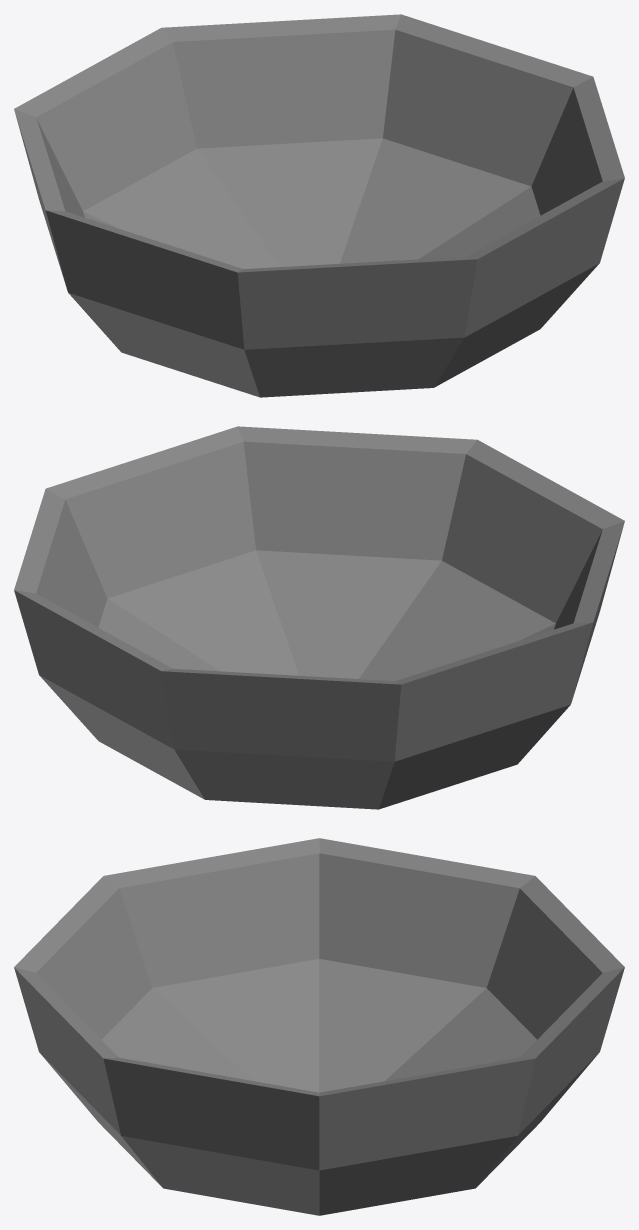
File: Bowl.gltf
3 renders of one model, top to bottom at view 1: azimuth 30°, elevation 25°; view 2: azimuth 150°, elevation 25°; view 3: azimuth 270°, elevation 25°, orthographic. The views are drawn at different scales.
Visible parts, largest first — view 1: Bowl2; view 2: Bowl2; view 3: Bowl2.
Part boxes in pixels (x1=…): Bowl2: x1=14, y1=14, x2=624, y2=397; Bowl2: x1=14, y1=426, x2=624, y2=809; Bowl2: x1=14, y1=838, x2=624, y2=1215.
Bounding box in the file's own units: 0.0926 × 0.0308 × 0.0926.
1 material, 1 textured.
